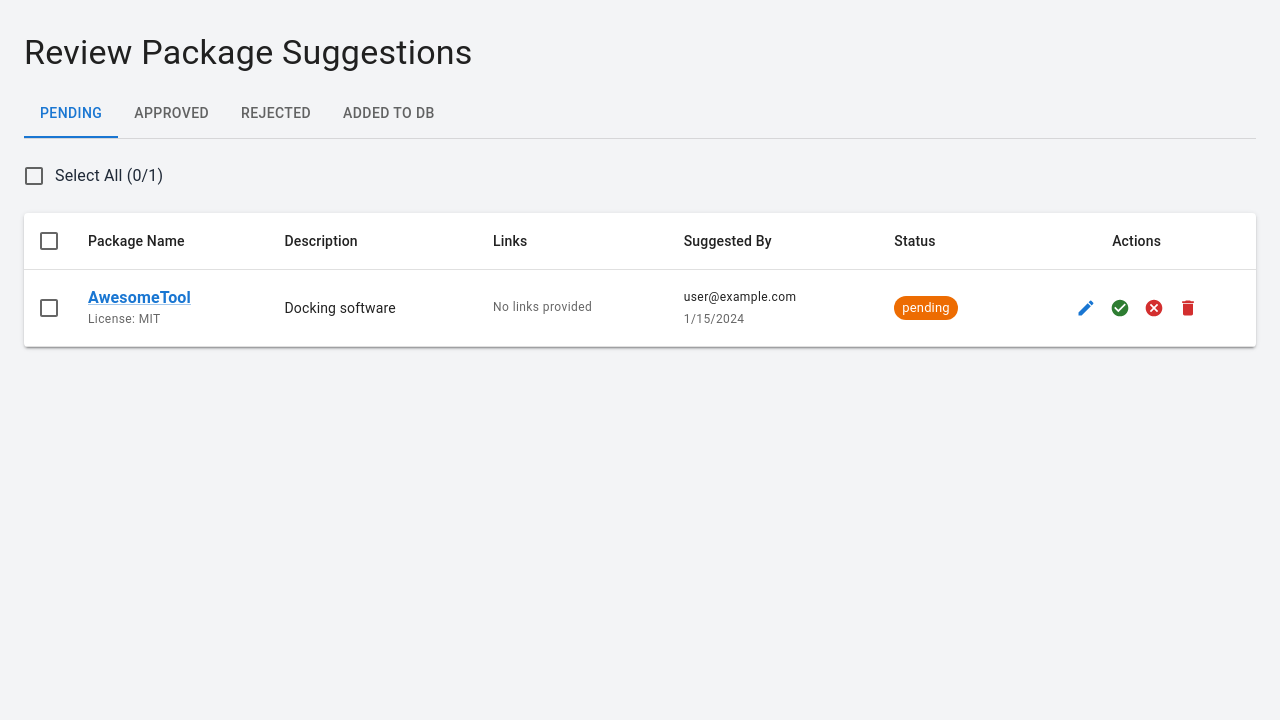
Test: AdminReviewSuggestionsPage — suggestion actions › opens the reject dialog when the reject icon button is clicked
Expected: the button "AwesomeTool" is shown, left=88, top=286, right=191, bottom=310
Click the button titled "Reject": (1154, 308) left=1139, top=293, right=1169, bottom=323
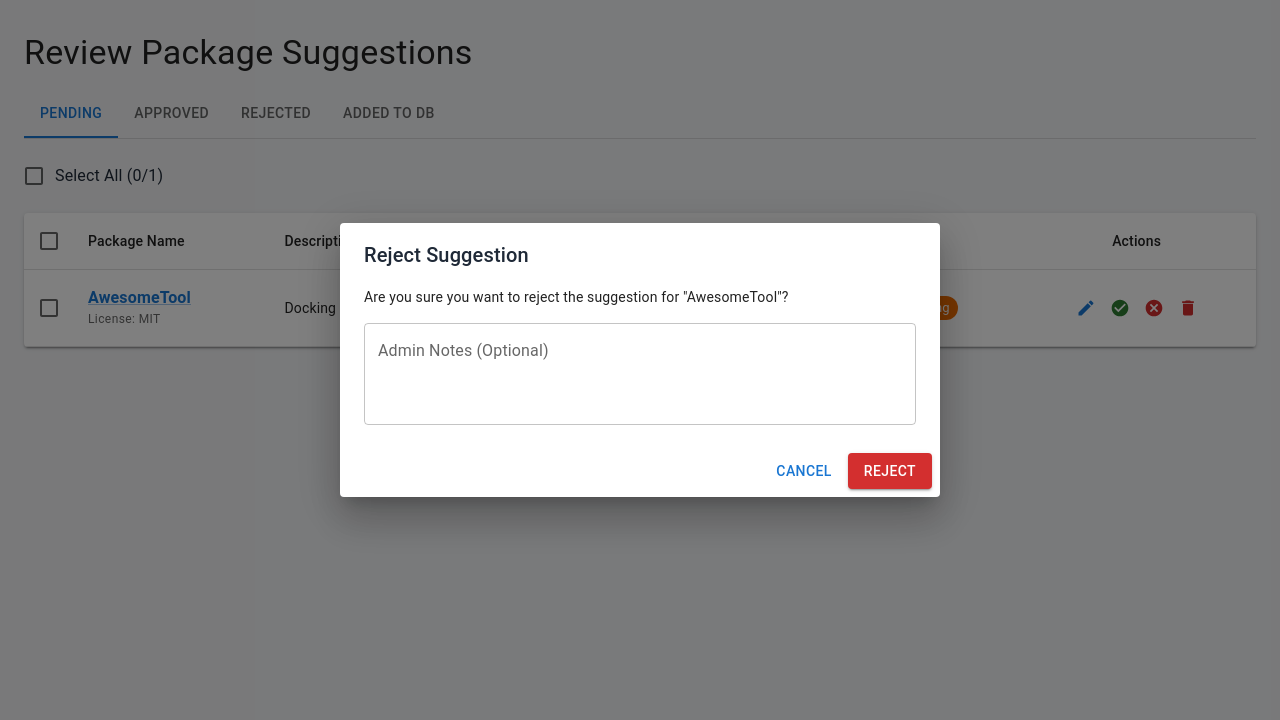
Result: the heading "Reject Suggestion" is shown at left=364, top=243, right=529, bottom=267
